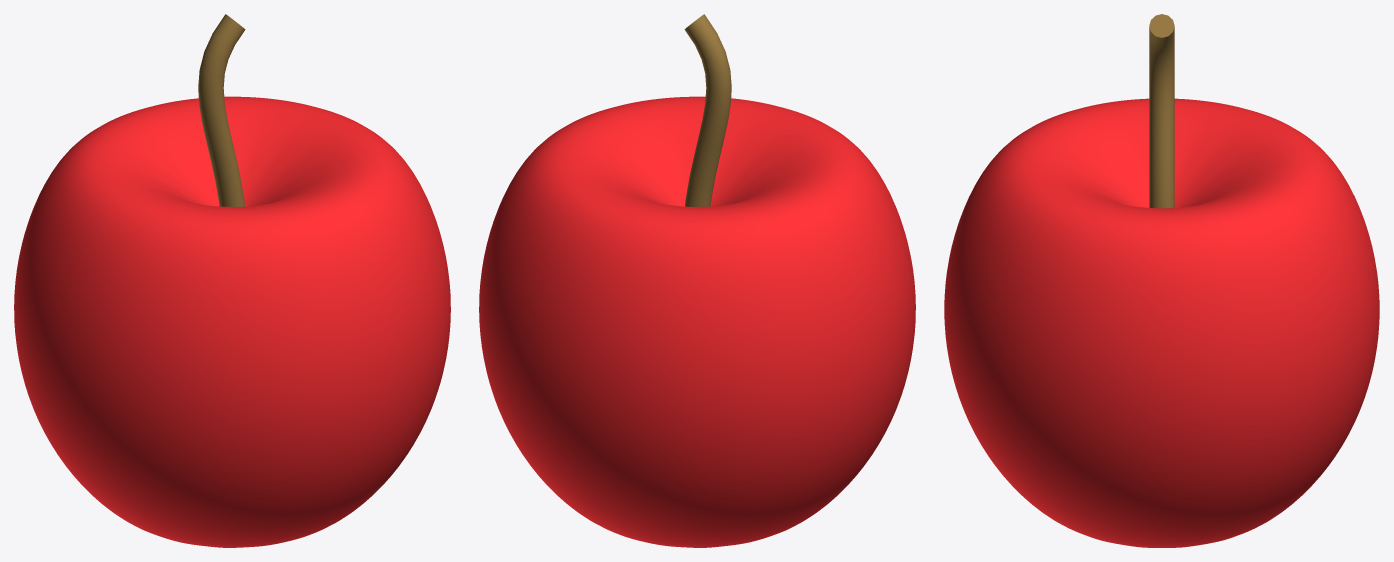
The model's file is apple.fbx.
The picture shows the model from 3 angles, left to right: view 1: azimuth 30°, elevation 25°; view 2: azimuth 150°, elevation 25°; view 3: azimuth 270°, elevation 25°; orthographic projection.
Visible parts, largest first — view 1: 球, ベジエカーブ; view 2: 球, ベジエカーブ; view 3: 球, ベジエカーブ.
Part boxes in pixels (box(x1,y1,x2,y2)): 球: box(14, 96, 450, 547); ベジエカーブ: box(198, 14, 245, 206); 球: box(479, 96, 915, 547); ベジエカーブ: box(684, 14, 731, 206); 球: box(944, 98, 1379, 547); ベジエカーブ: box(1149, 14, 1174, 208).
Bounding box in the file's own units: 525 × 655 × 525.
2 materials, 1 textured.
